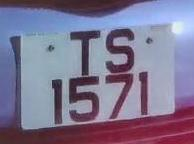1: (46, 74, 69, 128), (132, 70, 156, 119)
5: (64, 75, 106, 126)
7: (101, 71, 138, 124)
S: (102, 27, 138, 74)
T: (67, 26, 104, 77)
